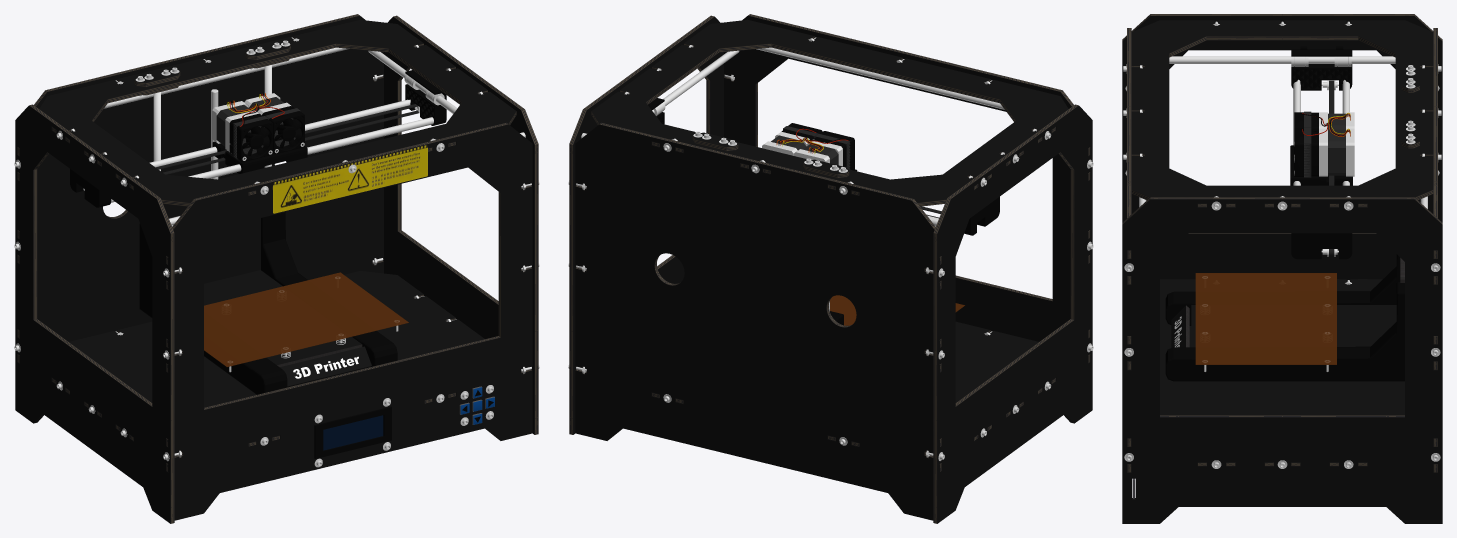
Rendered from 3d-printer.glb.
3 renders of one model, left to right at view 1: azimuth 30°, elevation 25°; view 2: azimuth 150°, elevation 25°; view 3: azimuth 270°, elevation 25°, orthographic. The views are drawn at different scales.
Visible parts, largest first — view 1: Plane.002_109, plate, rood, upper_main_machine, upper_rood, back_rood; view 2: Plane.002_109, upper_main_machine, rood, upper_rood; view 3: Plane.002_109, plate, rood, upper_main_machine, upper_rood.
Boxes of the visible parts, x1,y1,x2,y2 form: Plane.002_109: (14,14,539,523); plate: (204,272,408,366); rood: (70,70,446,207); upper_main_machine: (212,93,307,173); upper_rood: (104,47,457,226); back_rood: (153,65,271,179); Plane.002_109: (568,14,1093,523); upper_main_machine: (762,123,857,171); rood: (648,98,999,235); upper_rood: (581,50,938,226); Plane.002_109: (1122,14,1442,523); plate: (1195,273,1336,364); rood: (1291,46,1352,259); upper_main_machine: (1290,111,1354,185); upper_rood: (1169,56,1427,208).
Size of the model in its own units: 4.72 by 3.84 by 3.4.
24 materials, 3 textured.
